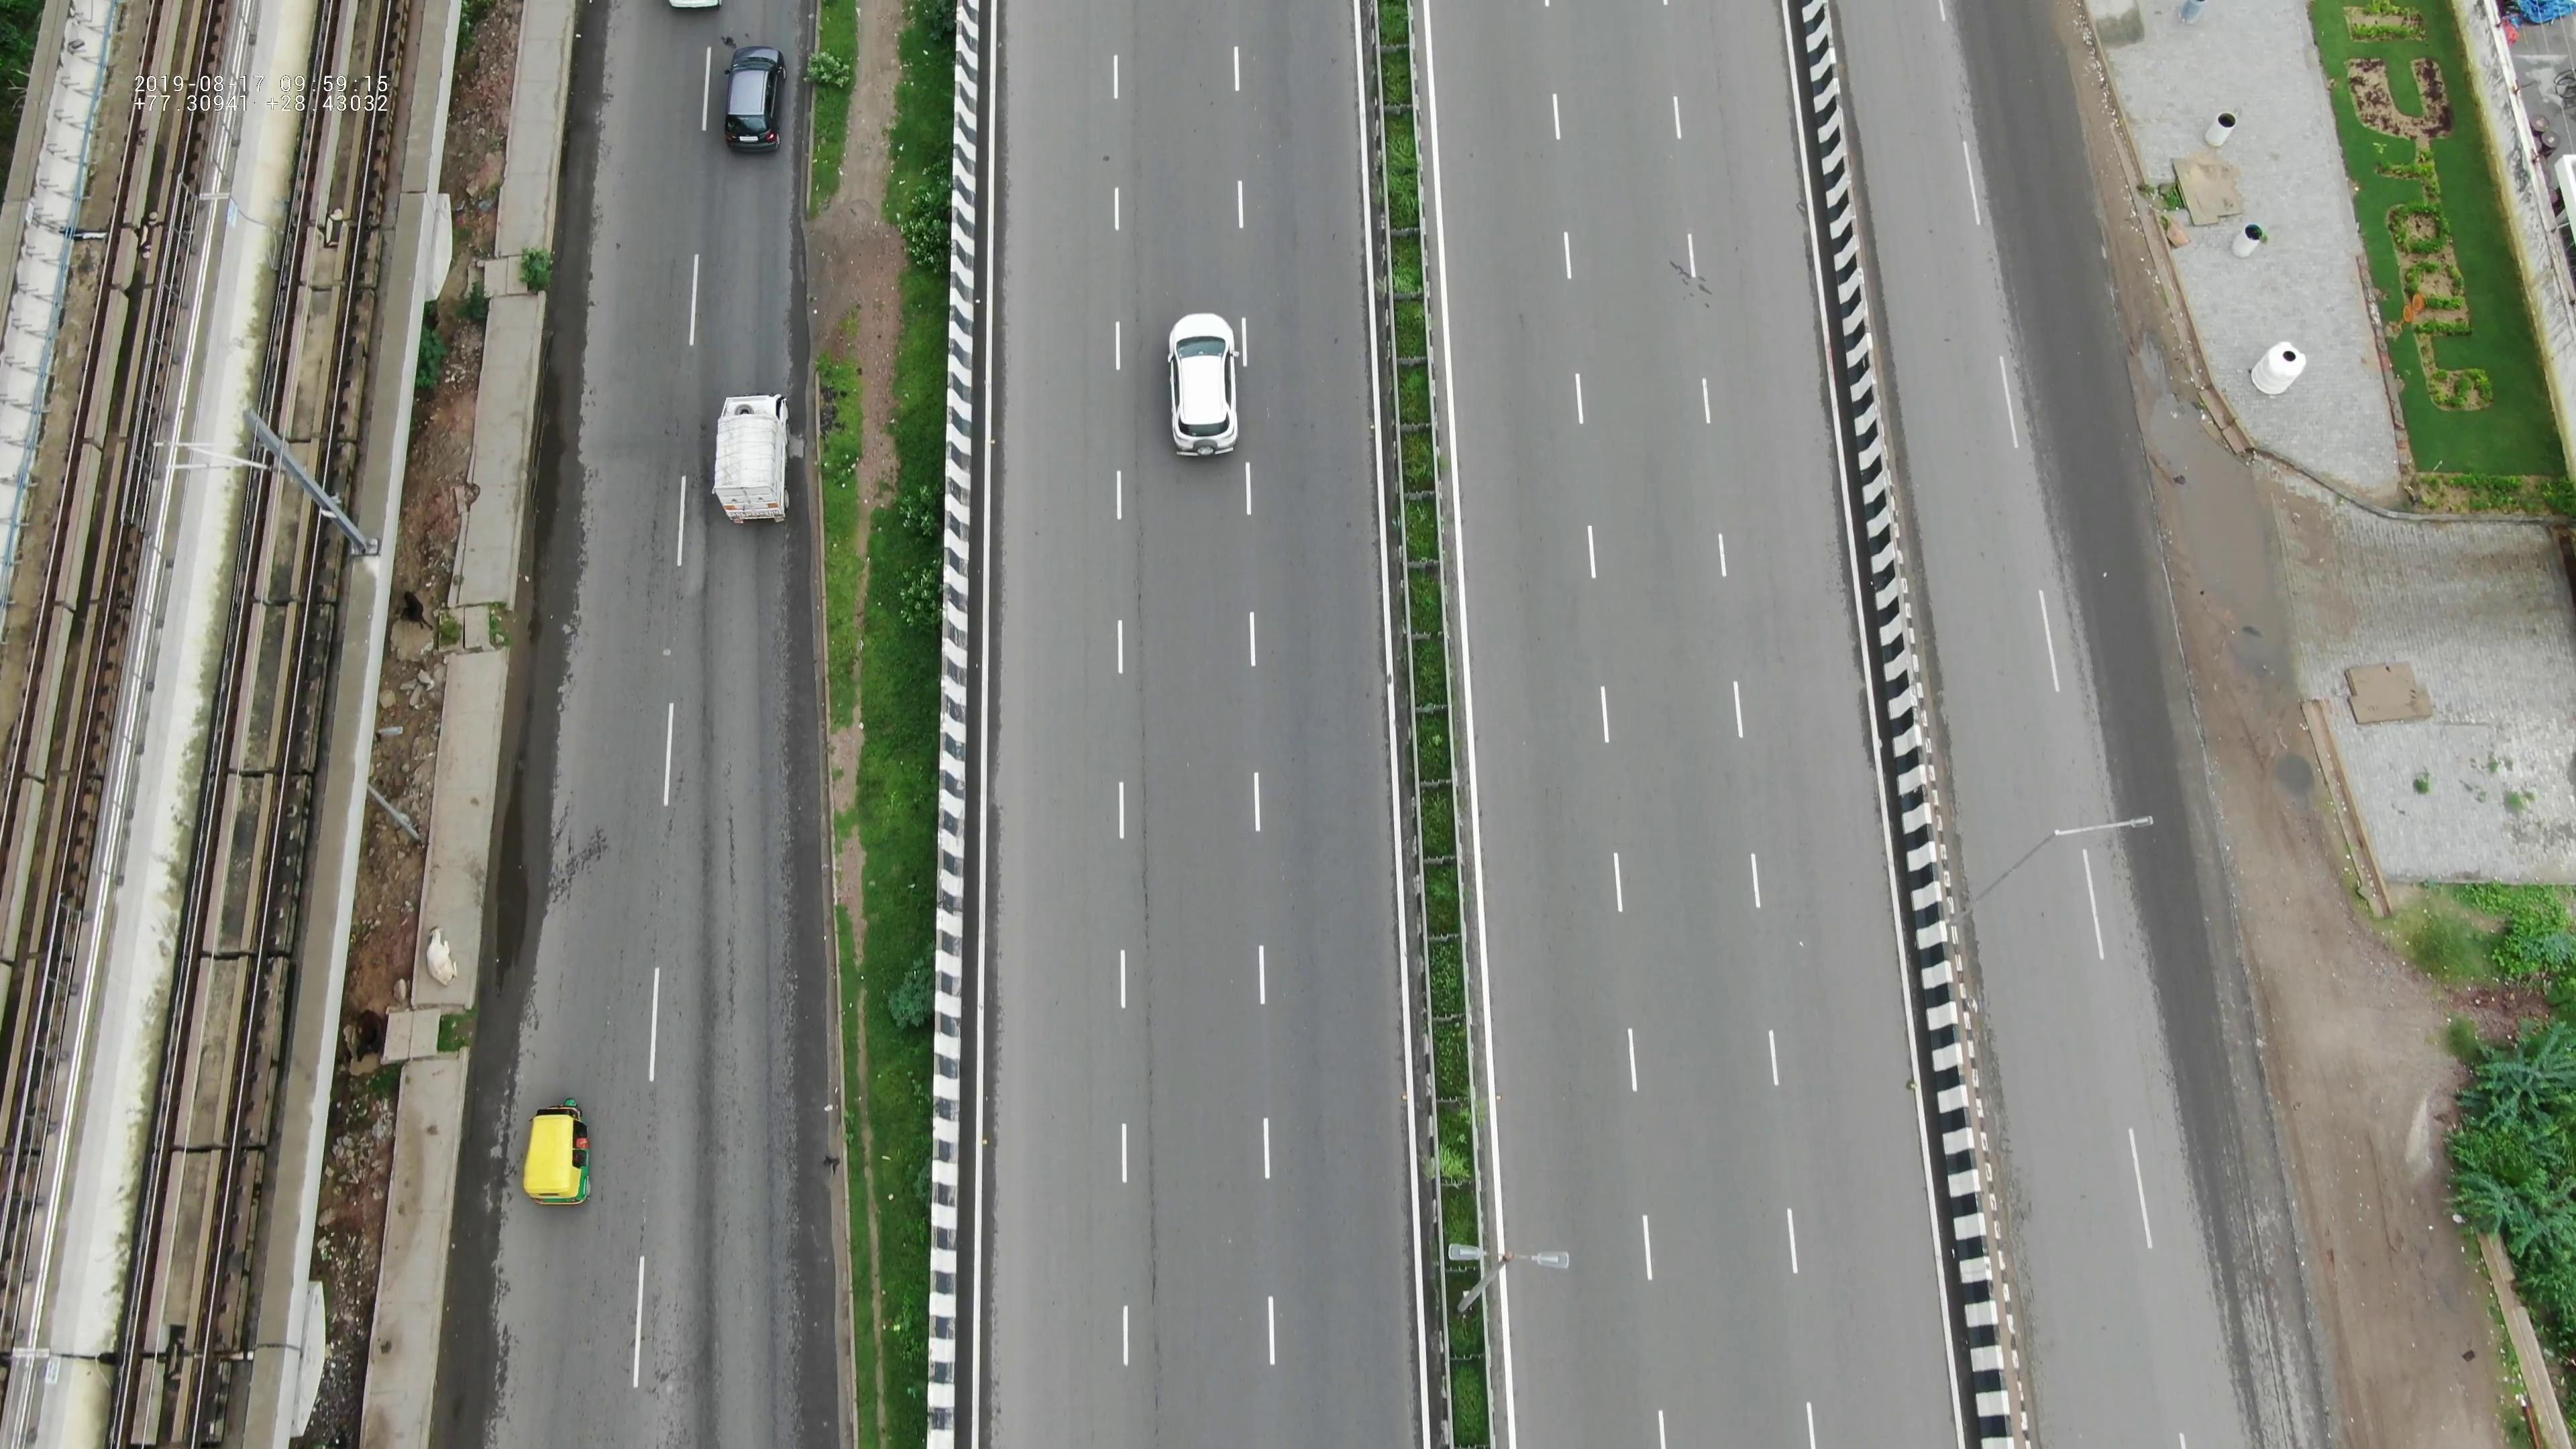Muddy_road: (2118, 308, 2304, 782), (2049, 11, 2166, 269)
